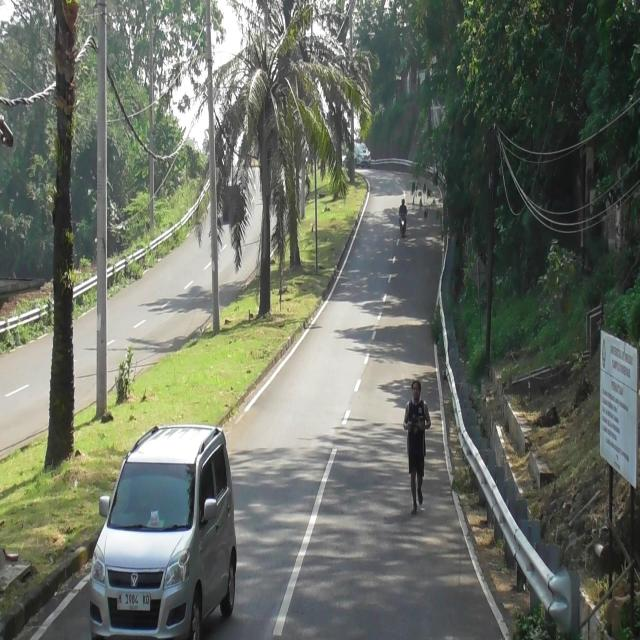motorcycle: (399, 211, 408, 238)
person: (399, 198, 407, 214)
rider_region: (398, 197, 408, 239)
